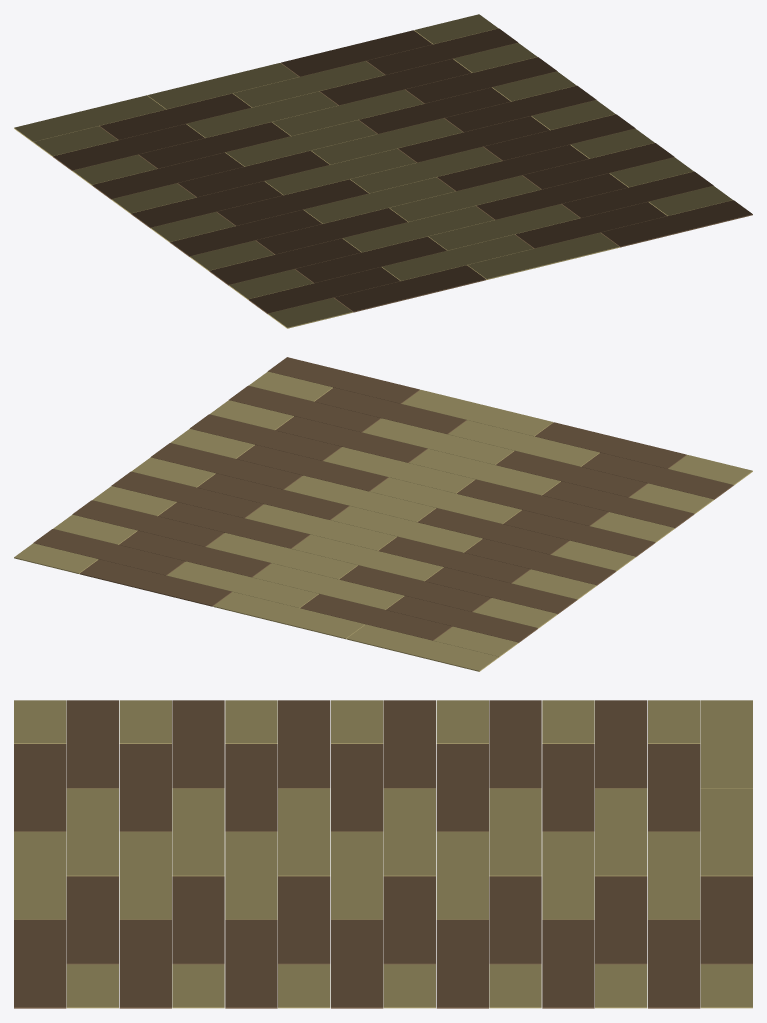
File: Floor 4.fbx
3 renders of one model, top to bottom at view 1: azimuth 30°, elevation 25°; view 2: azimuth 150°, elevation 25°; view 3: azimuth 270°, elevation 25°, orthographic. The views are drawn at different scales.
Parts seen in each view (by area): view 1: Node 0; view 2: Node 0; view 3: Node 0.
Part boxes in pixels (x1,y1,x2,y2): Node 0: [14, 14, 752, 328]; Node 0: [14, 357, 752, 671]; Node 0: [14, 700, 752, 1008].
Bounding box in the file's own units: 5.07 × 0.01 × 4.99.
